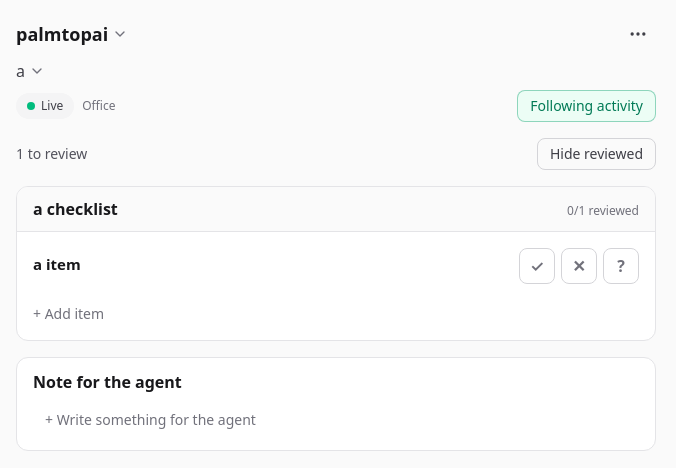
Test: ProjectView › the menu closes on Escape and outside taps
Step 1. Click the button named "Project menu" → (638, 34), box [620, 16, 656, 52]
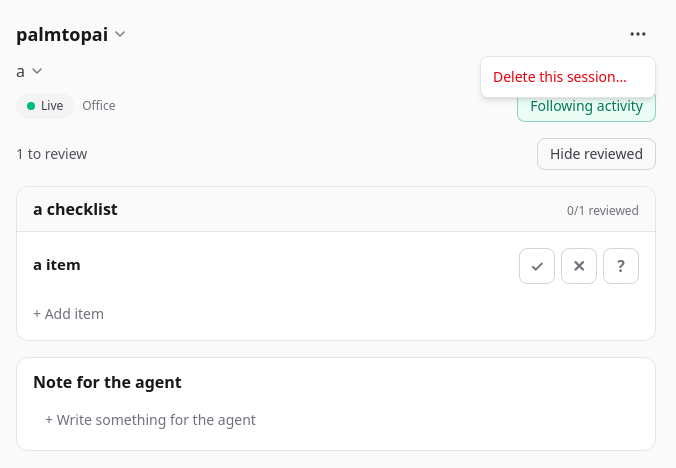
Step 2. Press Escape
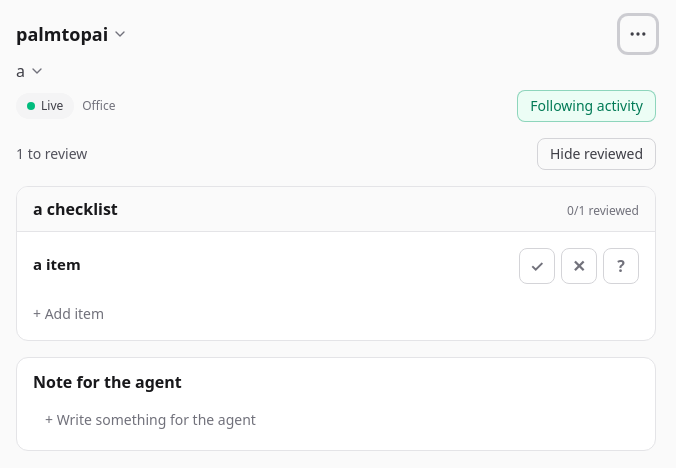
Expected: the menu is gone
Step 3. Click the button named "Project menu" → (638, 34), box [620, 16, 656, 52]
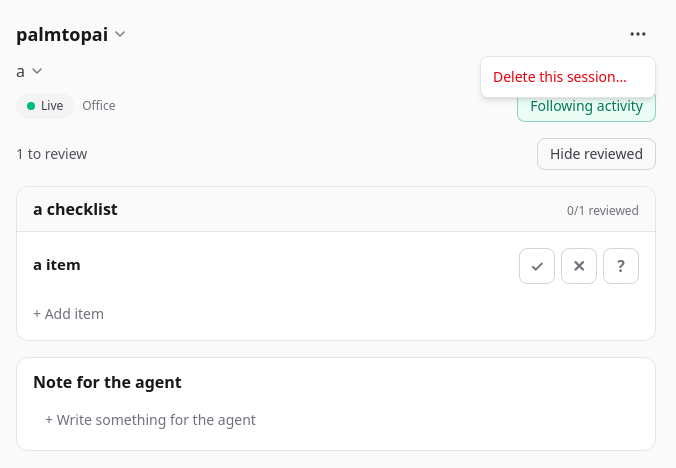
Step 4. Click the message "Live" → (45, 106), box [16, 93, 74, 119]
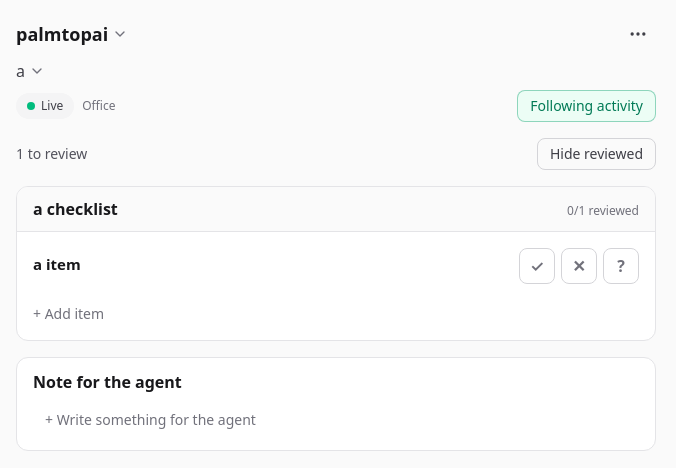
Expected: the menu is gone
